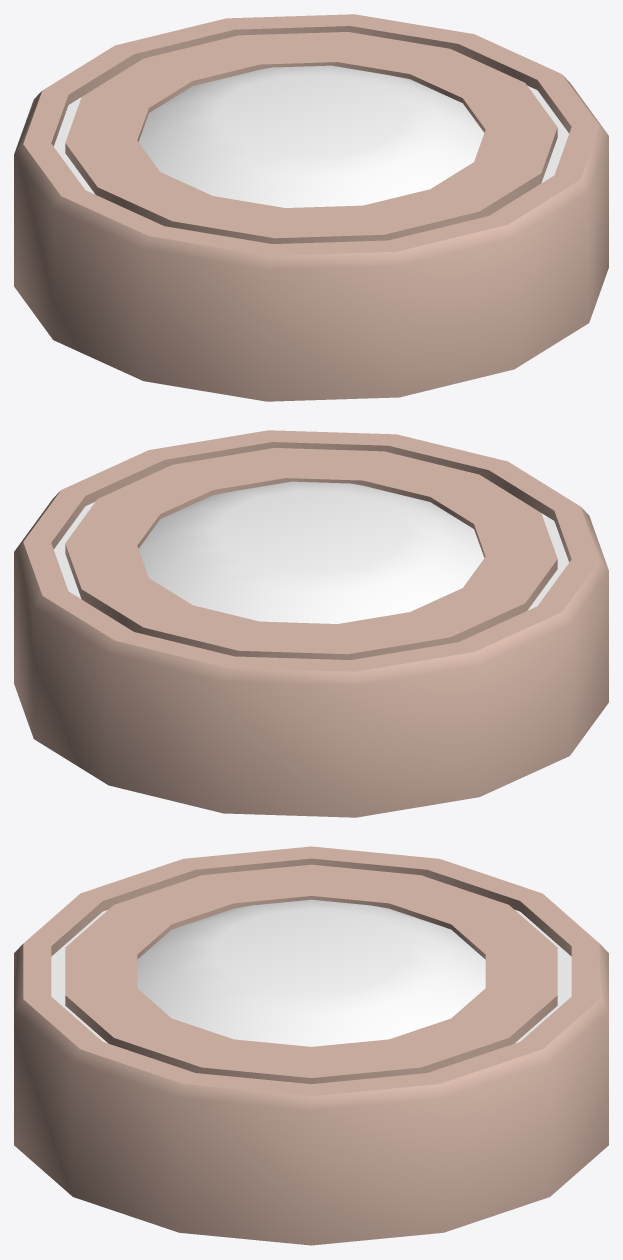
The model's file is pr_WallLight.FBX.
3 renders of one model, top to bottom at view 1: azimuth 30°, elevation 25°; view 2: azimuth 150°, elevation 25°; view 3: azimuth 270°, elevation 25°, orthographic. The views are drawn at different scales.
Visible parts, largest first — view 1: pr_WallLight; view 2: pr_WallLight; view 3: pr_WallLight.
Boxes of the visible parts, x1,y1,x2,y2 form: pr_WallLight: [14, 14, 608, 401]; pr_WallLight: [14, 430, 608, 817]; pr_WallLight: [14, 846, 608, 1245].
Bounding box in the file's own units: 124 × 37.04 × 121.
1 material, 1 textured.
